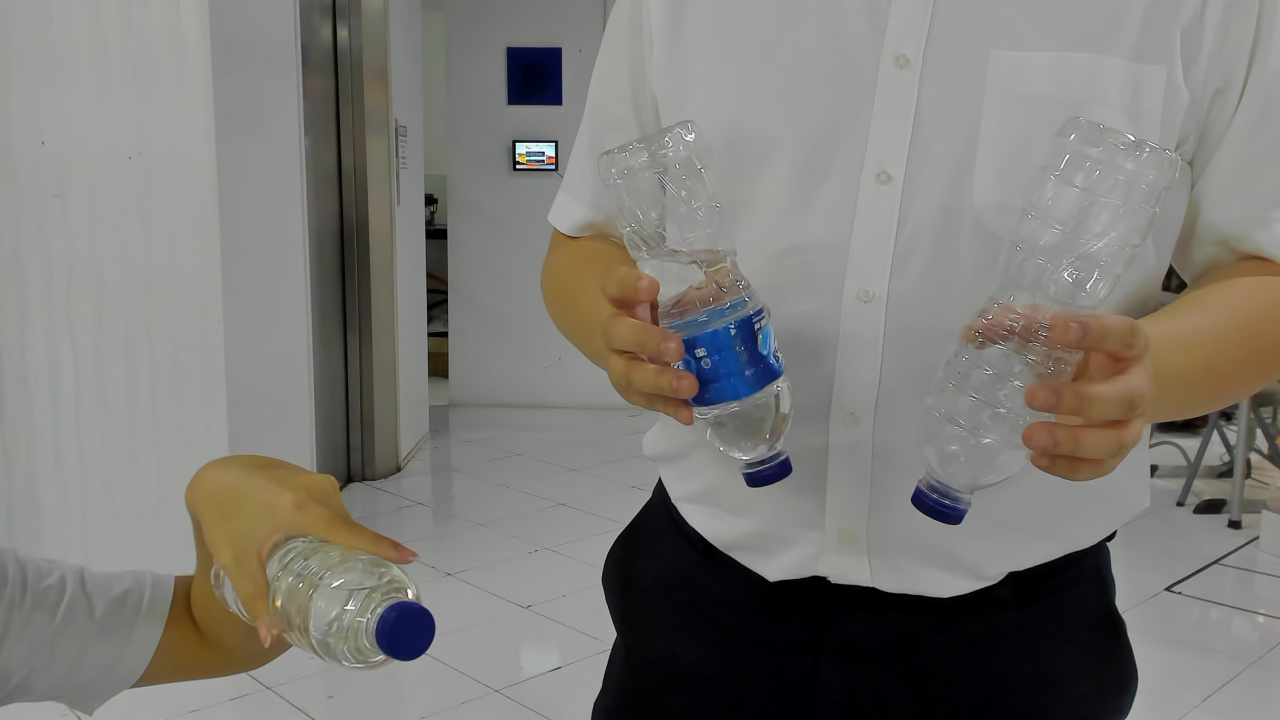Bottle: (916, 123, 1183, 530), (600, 125, 798, 497), (212, 528, 438, 674)
